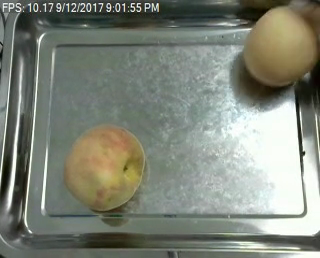Peach: (64, 123, 147, 211), (243, 7, 317, 85)
